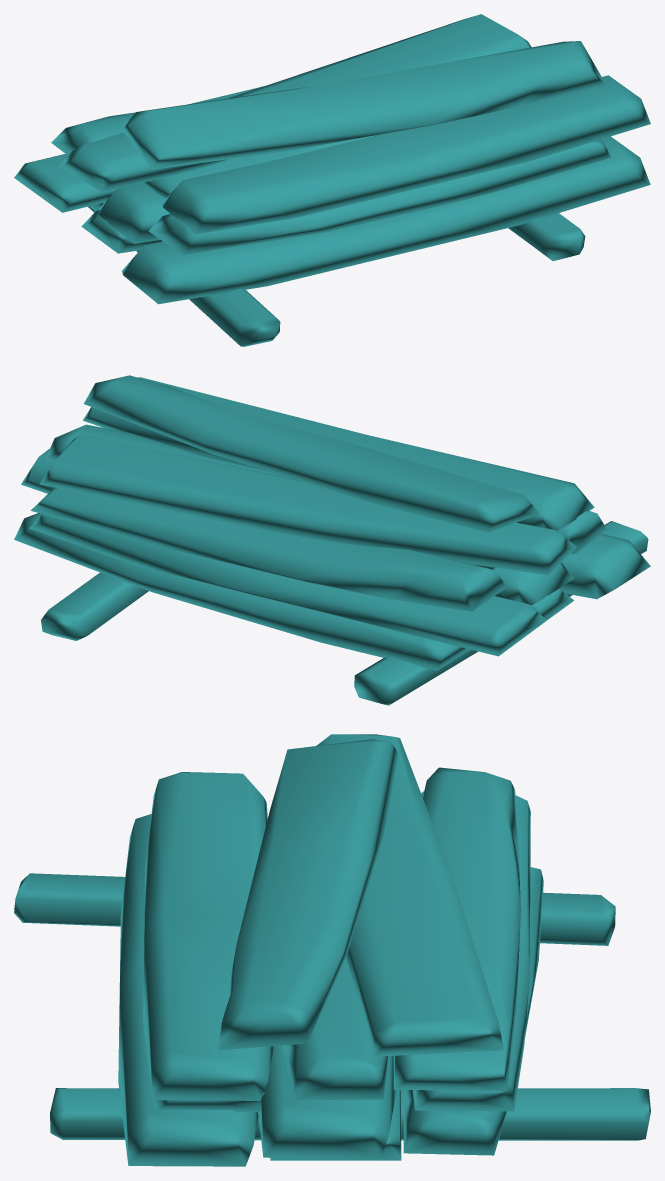
File: SM_Construction_kit_Board.fbx
3 views of the same model, one above another, from view 1: azimuth 30°, elevation 25°; view 2: azimuth 150°, elevation 25°; view 3: azimuth 270°, elevation 25° (orthographic). The views are drawn at different scales.
Parts seen in each view (by area): view 1: Construction_Board; view 2: Construction_Board; view 3: Construction_Board.
Part boxes in pixels (x1=…): Construction_Board: x1=14, y1=14, x2=650, y2=346; Construction_Board: x1=14, y1=375, x2=650, y2=705; Construction_Board: x1=14, y1=734, x2=650, y2=1166.
Size of the model in its own units: 191 by 48.4 by 148.
